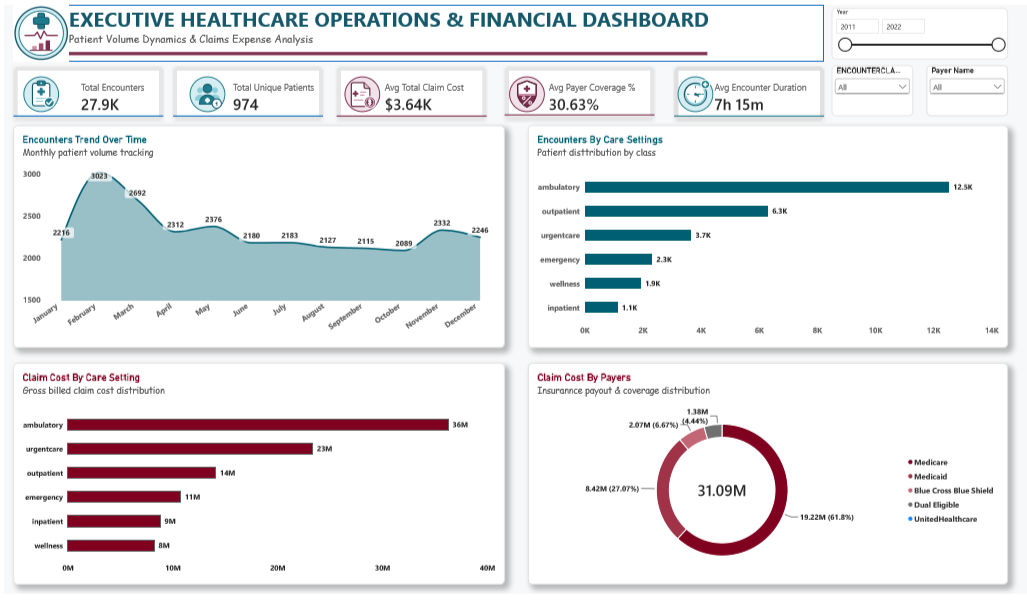

This screenshot's page, from the dashboard's own definition file:
{"tool":"powerbi","page":{"name":"Page 1","canvas":[1920,1080],"ordinal":0},"visuals":[{"type":"cardVisual","fields":{"Data":["encounters.Average Total Claim Cost"]},"box":[610.2,112.7,275,99],"z":2},{"type":"cardVisual","fields":{"Data":["encounters.Average Payer Coverage"]},"box":[918.4,112.7,275,99],"z":3},{"type":"cardVisual","fields":{"Data":["encounters.Average Encounter Duration (Hours)"]},"box":[1228.8,112.7,275,99.9],"z":4},{"type":"cardVisual","fields":{"Data":["encounters.Total Unique Patients"]},"box":[310.4,112.7,275,99],"z":7},{"type":"cardVisual","fields":{"Data":["encounters.Total Encounters"]},"box":[17,112.7,275,99],"z":8},{"type":"areaChart","title":"Encounters Trend Over  Time","fields":{"Category":["encounters.START.Variation.Date Hierarchy.Month"],"Y":["encounters.Total Encounters"]},"box":[17,221.1,901.4,408.2],"z":9},{"type":"clusteredBarChart","title":" Encounters By Care Settings","fields":{"Category":["encounters.ENCOUNTERCLASS"],"Y":["encounters.Total Encounters"]},"box":[960.9,221.1,880.2,408.2],"z":10},{"type":"donutChart","title":"Claim Cost By Payers","fields":{"Category":["payers.NAME"],"Y":["Sum(encounters.PAYER_COVERAGE)"]},"box":[960.9,656.9,880.2,406.1],"z":11},{"type":"clusteredBarChart","title":"Claim Cost By Care Setting","fields":{"Category":["encounters.ENCOUNTERCLASS"],"Y":["Sum(encounters.TOTAL_CLAIM_COST)"]},"box":[17,656.9,901.4,406.1],"z":12},{"type":"shape","box":[17,0,1486.1,104.2],"z":13},{"type":"image","box":[17,0,102,104.2],"z":14},{"type":"textbox","box":[119.1,0,1441.4,112.7],"z":15},{"type":"slicer","fields":{"Values":["encounters.START.Variation.Date Hierarchy.Year"]},"box":[1518,6.4,323.1,93.5],"z":16},{"type":"slicer","fields":{"Values":["encounters.ENCOUNTERCLASS"]},"box":[1518,110.6,148.8,93.5],"z":17},{"type":"slicer","title":"Payer Name","fields":{"Values":["payers.NAME"]},"box":[1692.3,110.6,148.8,93.5],"z":18},{"type":"image","box":[17,129.7,102,68],"z":19},{"type":"image","box":[325.3,129.7,95.7,68],"z":20},{"type":"image","box":[610.2,129.7,93.5,68],"z":21},{"type":"image","box":[918.4,129.7,80.8,68],"z":22},{"type":"image","box":[1228.8,129.7,78.7,68],"z":23},{"type":"shape","box":[119.1,48.9,1171.4,80.8],"z":24},{"type":"shape","box":[17,163.7,275,80],"z":25},{"type":"shape","box":[310.4,163.7,275,80],"z":26},{"type":"shape","box":[610.2,163.7,275,80],"z":27},{"type":"shape","box":[918.4,161.6,275,80],"z":28},{"type":"shape","box":[1228.8,163.7,275,80],"z":29}]}

Visuals, with their boxes on the page's 1920x1080 design canvas (x1, y1, x2, y2). These are canvas units, not pixel positions in the 1027x600 screenshot, which may show the page scaled, cropped or inside an application window:
cardVisual - encounters.Average Total Claim Cost: <region>610, 113, 885, 212</region>
cardVisual - encounters.Average Payer Coverage: <region>918, 113, 1193, 212</region>
cardVisual - encounters.Average Encounter Duration (Hours): <region>1229, 113, 1504, 213</region>
cardVisual - encounters.Total Unique Patients: <region>310, 113, 585, 212</region>
cardVisual - encounters.Total Encounters: <region>17, 113, 292, 212</region>
"Encounters Trend Over  Time" areaChart: <region>17, 221, 918, 629</region>
" Encounters By Care Settings" clusteredBarChart: <region>961, 221, 1841, 629</region>
"Claim Cost By Payers" donutChart: <region>961, 657, 1841, 1063</region>
"Claim Cost By Care Setting" clusteredBarChart: <region>17, 657, 918, 1063</region>
shape: <region>17, 0, 1503, 104</region>
image: <region>17, 0, 119, 104</region>
textbox: <region>119, 0, 1560, 113</region>
slicer - encounters.START.Variation.Date Hierarchy.Year: <region>1518, 6, 1841, 100</region>
slicer - encounters.ENCOUNTERCLASS: <region>1518, 111, 1667, 204</region>
"Payer Name" slicer: <region>1692, 111, 1841, 204</region>
image: <region>17, 130, 119, 198</region>
image: <region>325, 130, 421, 198</region>
image: <region>610, 130, 704, 198</region>
image: <region>918, 130, 999, 198</region>
image: <region>1229, 130, 1308, 198</region>
shape: <region>119, 49, 1290, 130</region>
shape: <region>17, 164, 292, 244</region>
shape: <region>310, 164, 585, 244</region>
shape: <region>610, 164, 885, 244</region>
shape: <region>918, 162, 1193, 242</region>
shape: <region>1229, 164, 1504, 244</region>
